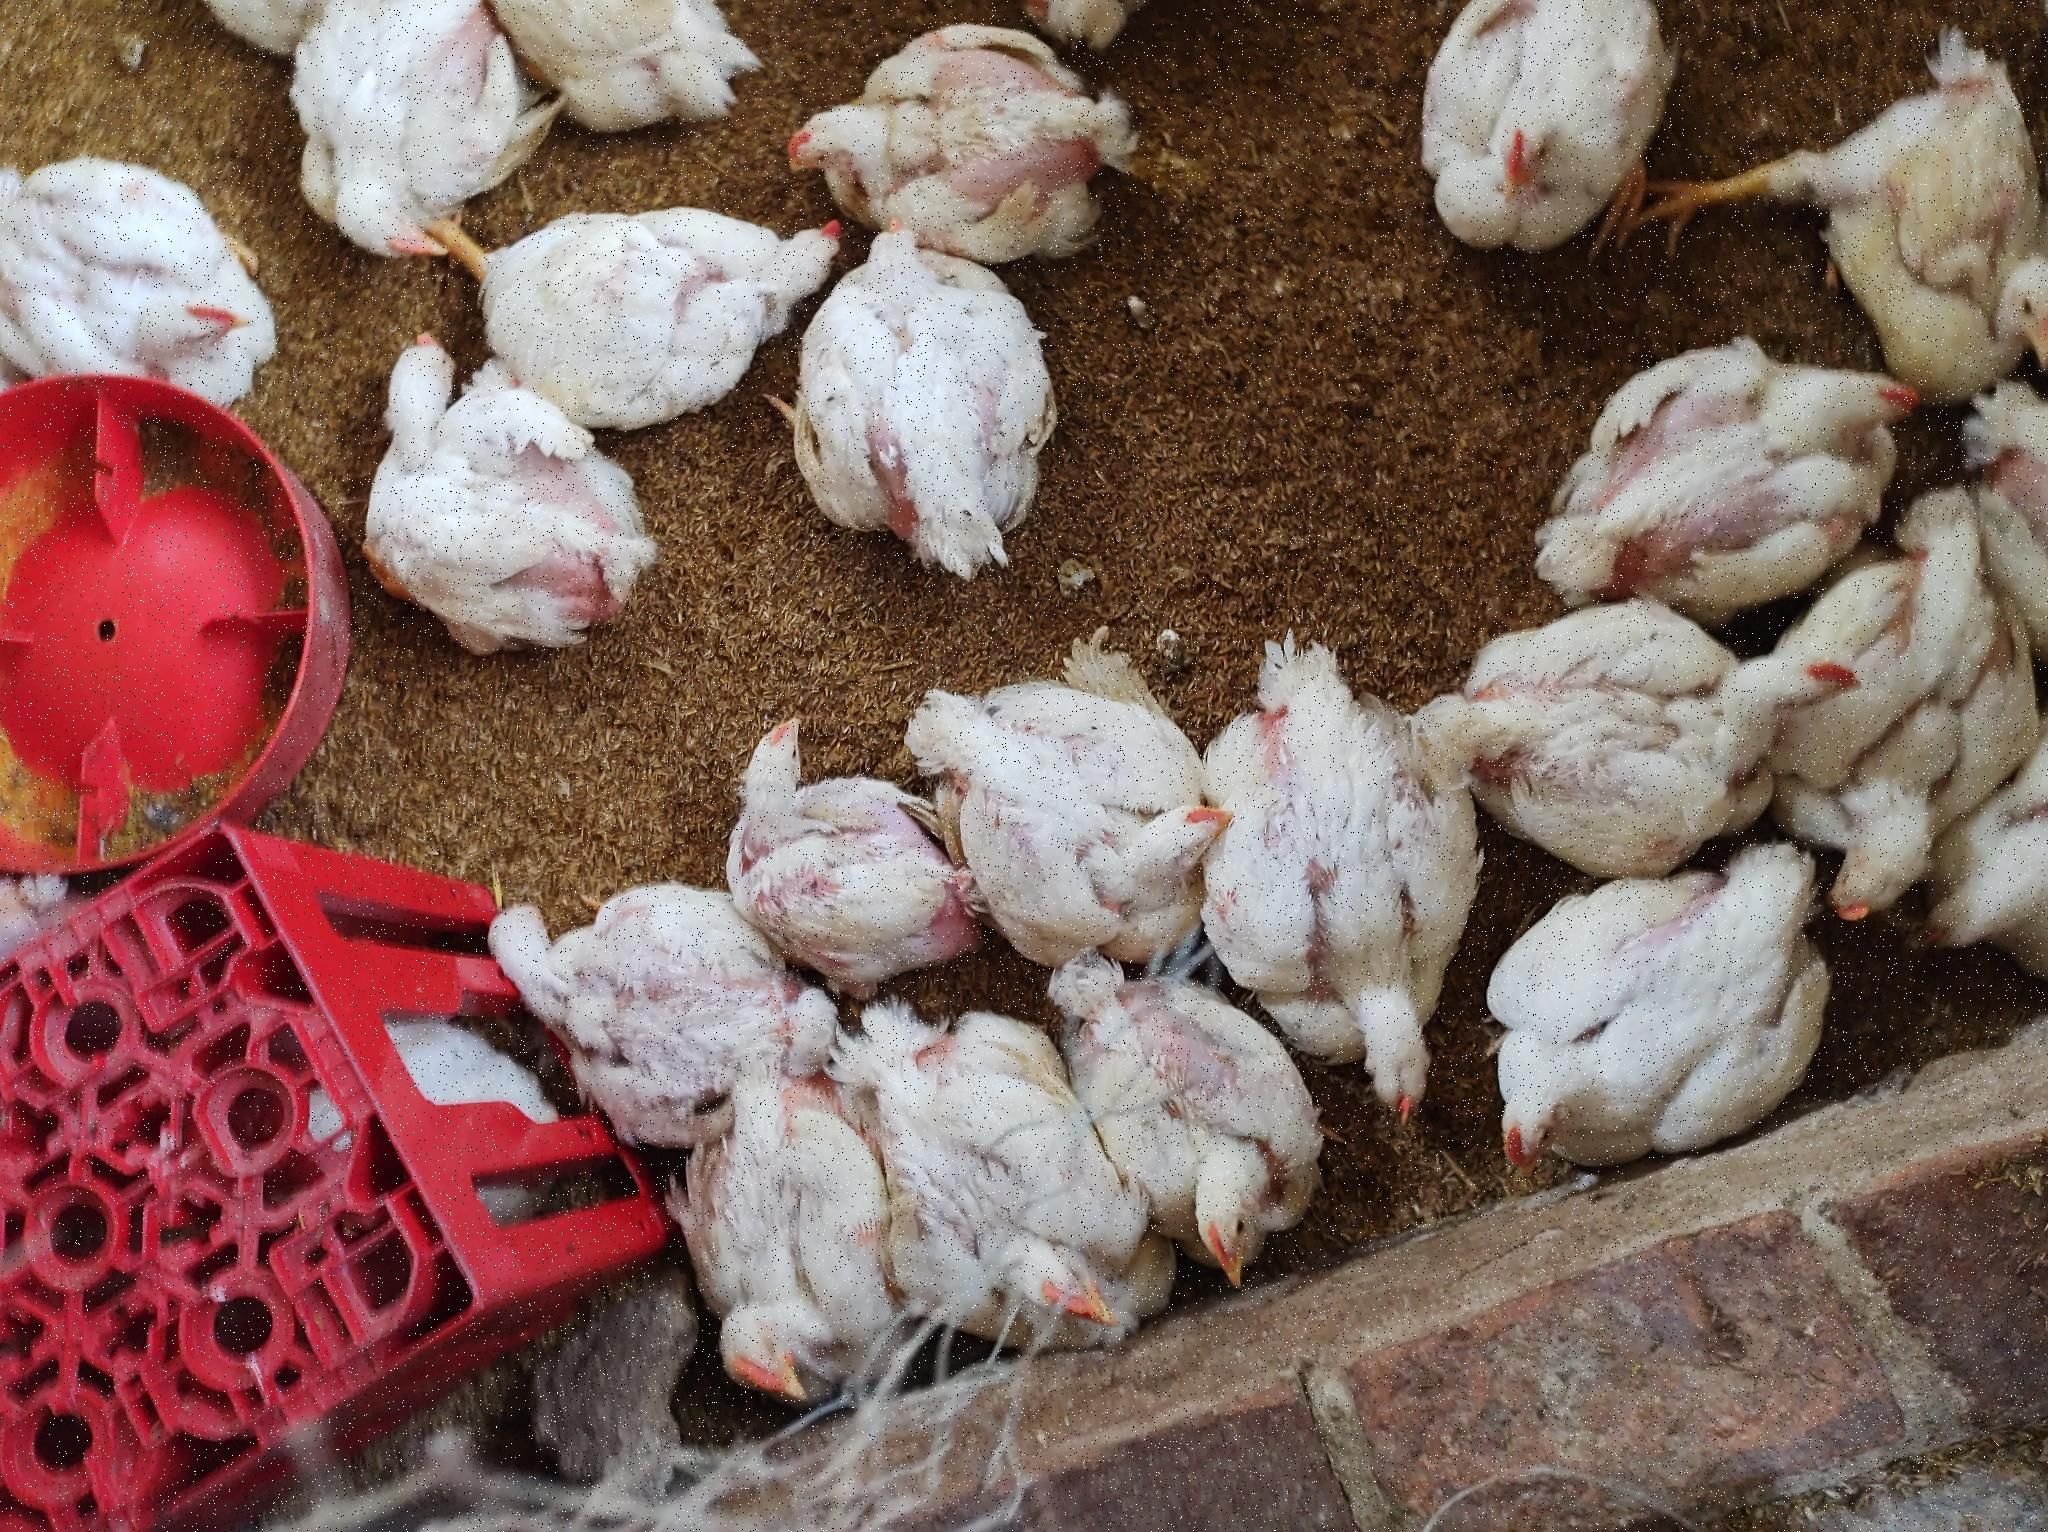Pollos: (431, 1147, 988, 1474), (171, 829, 545, 1133), (570, 935, 915, 1231), (1239, 787, 1520, 1138), (866, 348, 1216, 629), (960, 764, 1265, 1088), (412, 483, 693, 809), (1100, 2, 1445, 261), (1108, 455, 1327, 845), (241, 1093, 561, 1344), (1269, 257, 1533, 562), (533, 727, 866, 933), (98, 679, 442, 867), (1265, 1344, 1532, 1532), (1396, 499, 1533, 772), (705, 1419, 951, 1532)
